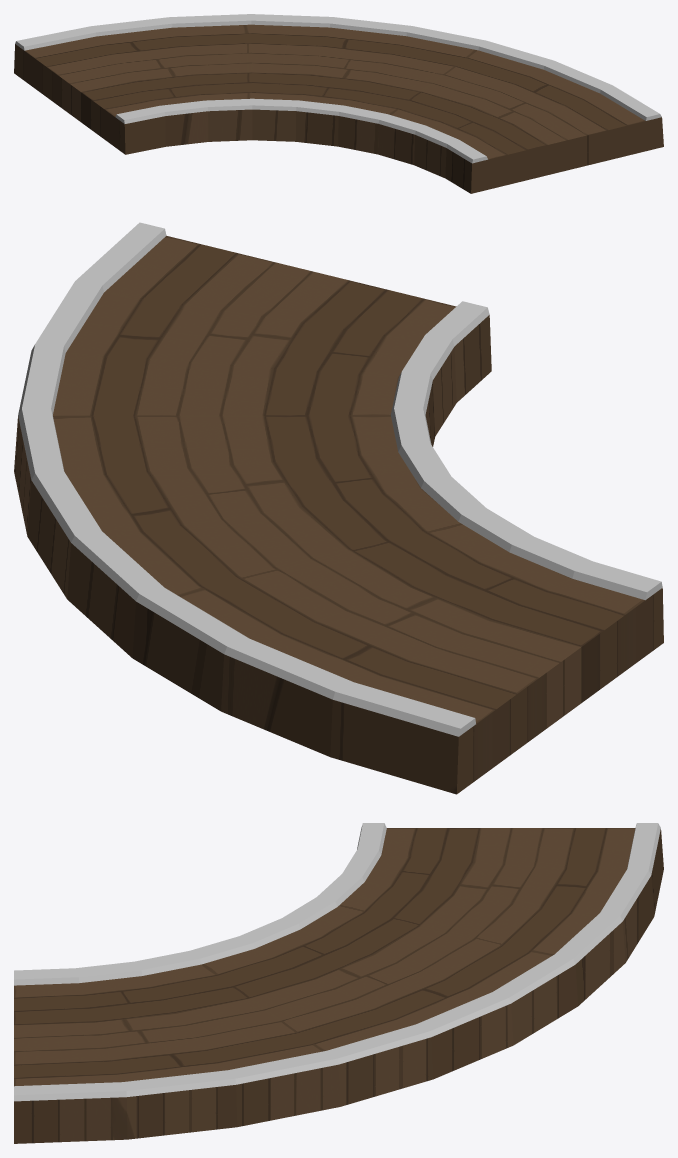
File: SM_Env_Path_Corner_01.fbx
The picture shows the model from 3 angles, top to bottom: view 1: azimuth 30°, elevation 25°; view 2: azimuth 150°, elevation 25°; view 3: azimuth 270°, elevation 25°; orthographic projection. The views are drawn at different scales.
Parts seen in each view (by area): view 1: SM_Env_Path_Corner_01; view 2: SM_Env_Path_Corner_01; view 3: SM_Env_Path_Corner_01.
Boxes of the visible parts, x1,y1,x2,y2 form: SM_Env_Path_Corner_01: (14, 14, 663, 193); SM_Env_Path_Corner_01: (14, 222, 663, 794); SM_Env_Path_Corner_01: (14, 823, 663, 1143).
Bounding box in the file's own units: 654 × 51.31 × 654.
